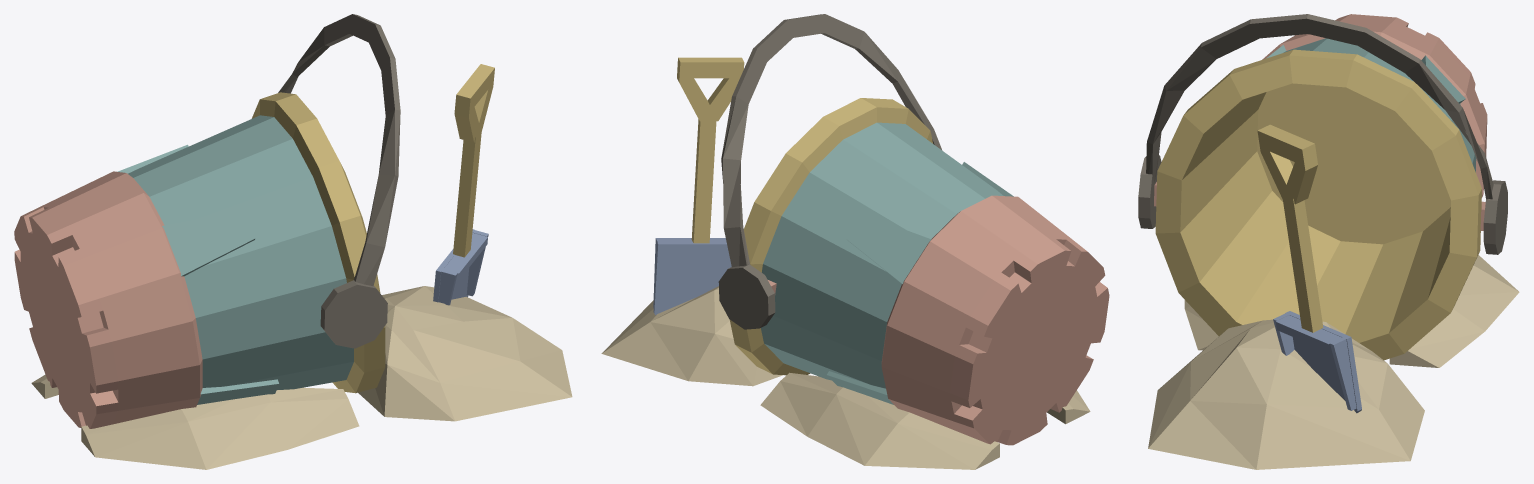
File: beach-bucket-dc52dd.glb
3 renders of one model, left to right at view 1: azimuth 30°, elevation 25°; view 2: azimuth 150°, elevation 25°; view 3: azimuth 270°, elevation 25°, orthographic. The views are drawn at different scales.
Parts seen in each view (by area): view 1: bucket, bail, spade-mesh; view 2: bucket, bail, spade-mesh; view 3: bucket, bail, spade-mesh.
Boxes of the visible parts, x1=… form: bucket: x1=14, y1=92, x2=572, y2=469; bail: x1=278, y1=14, x2=400, y2=348; spade-mesh: x1=433, y1=64, x2=494, y2=305; bucket: x1=601, y1=98, x2=1109, y2=469; bail: x1=718, y1=14, x2=942, y2=329; spade-mesh: x1=653, y1=57, x2=744, y2=315; bucket: x1=1148, y1=14, x2=1519, y2=469; bail: x1=1138, y1=14, x2=1507, y2=254; spade-mesh: x1=1257, y1=124, x2=1361, y2=413.
Bounding box in the file's own units: 0.3908 × 0.2732 × 0.2545.
